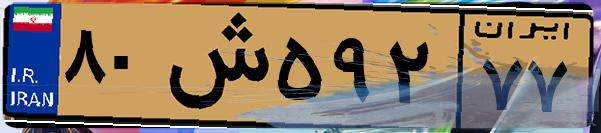0: (110, 28, 158, 98)
2: (385, 28, 445, 110)
5: (270, 28, 330, 110)
7: (475, 38, 525, 113), (525, 38, 570, 115)
8: (57, 26, 110, 100)
9: (330, 28, 385, 110)
ش: (158, 12, 270, 120)
